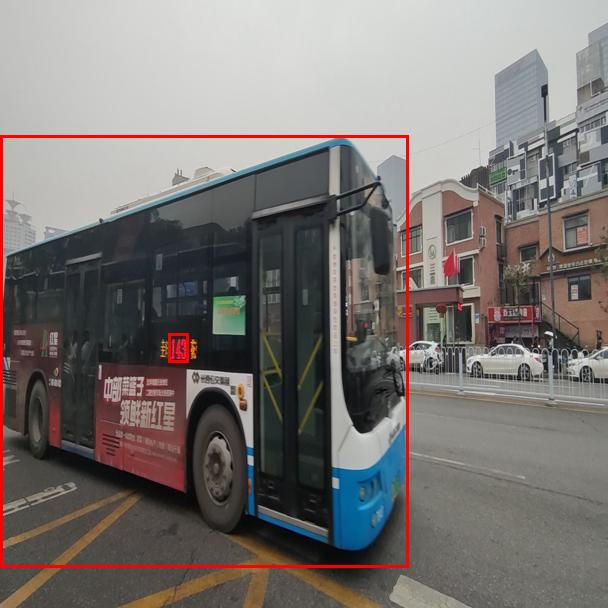bus: (0, 135, 408, 567)
screen: (168, 333, 188, 362)
